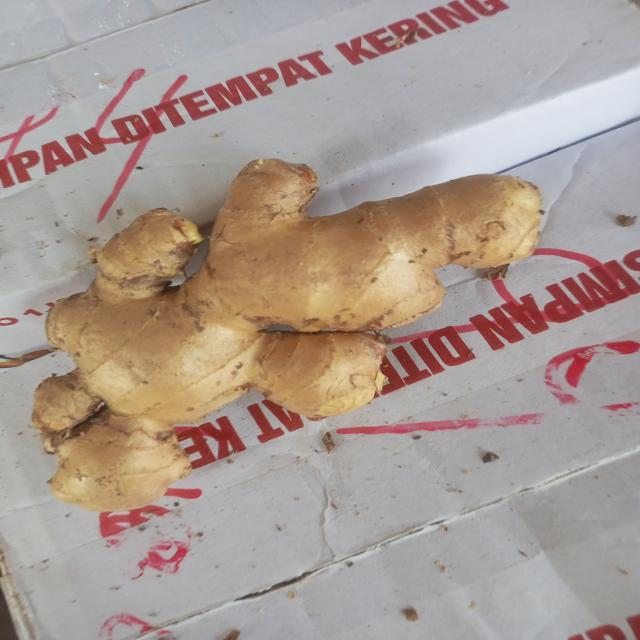ginger: (47, 163, 535, 508)
